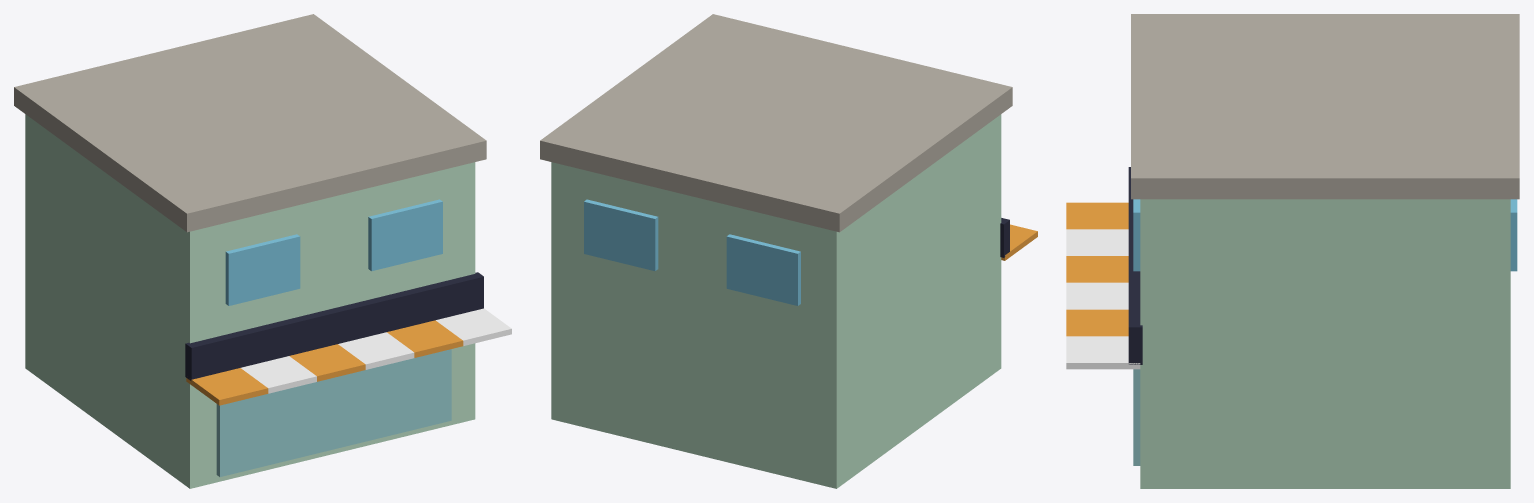
Rendered from shop.glb.
The picture shows the model from 3 angles, left to right: view 1: azimuth 30°, elevation 25°; view 2: azimuth 150°, elevation 25°; view 3: azimuth 270°, elevation 25°; orthographic projection. The views are drawn at different scales.
Visible parts, largest first — view 1: shop_wall_mint, shop_roof_flat, shop_glass, shop_black, shop_window, shop_awning, shop_white; view 2: shop_wall_mint, shop_roof_flat, shop_window, shop_awning; view 3: shop_wall_mint, shop_roof_flat, shop_white, shop_awning, shop_black, shop_window, shop_glass.
Boxes of the visible parts, x1,y1,x2,y2 form: shop_wall_mint: [25, 114, 475, 488]; shop_roof_flat: [14, 14, 486, 232]; shop_glass: [216, 349, 451, 476]; shop_black: [185, 272, 483, 380]; shop_window: [225, 199, 442, 305]; shop_awning: [186, 320, 463, 405]; shop_white: [241, 308, 511, 393]; shop_wall_mint: [551, 114, 1001, 488]; shop_roof_flat: [540, 14, 1012, 232]; shop_window: [584, 199, 800, 305]; shop_awning: [1001, 224, 1037, 260]; shop_wall_mint: [1140, 199, 1510, 488]; shop_roof_flat: [1131, 14, 1519, 199]; shop_white: [1066, 229, 1140, 369]; shop_awning: [1066, 202, 1128, 336]; shop_black: [1128, 167, 1142, 364]; shop_window: [1133, 199, 1517, 271]; shop_glass: [1133, 369, 1140, 465].
Bounding box in the file's own units: 8.4 × 7.5 × 9.8.
